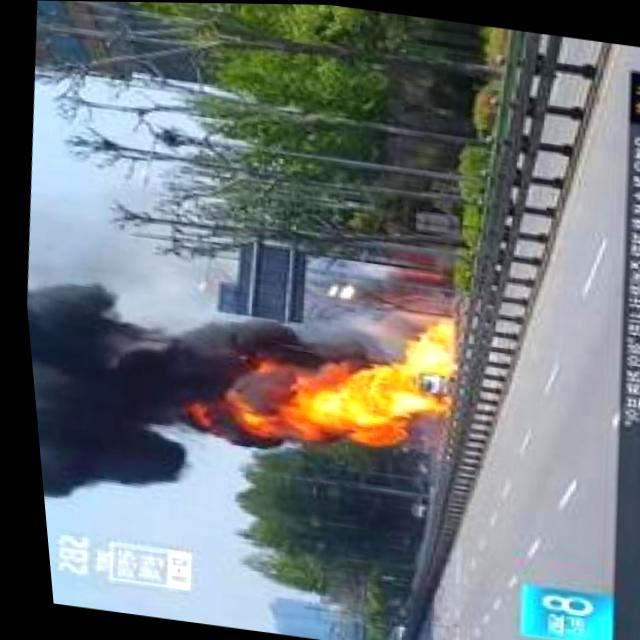fire: (290, 363, 414, 449), (401, 315, 447, 377), (412, 384, 438, 416)
